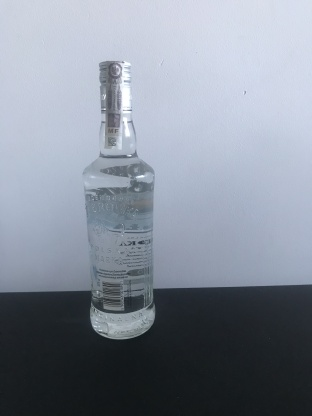nakretka: (96, 57, 135, 116)
